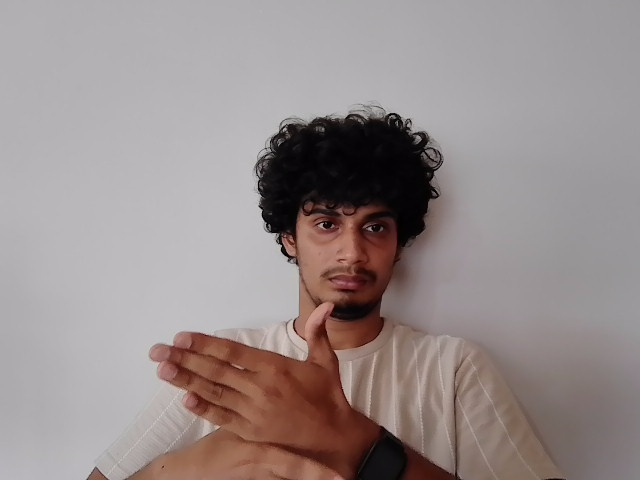busy: (146, 304, 376, 480)
